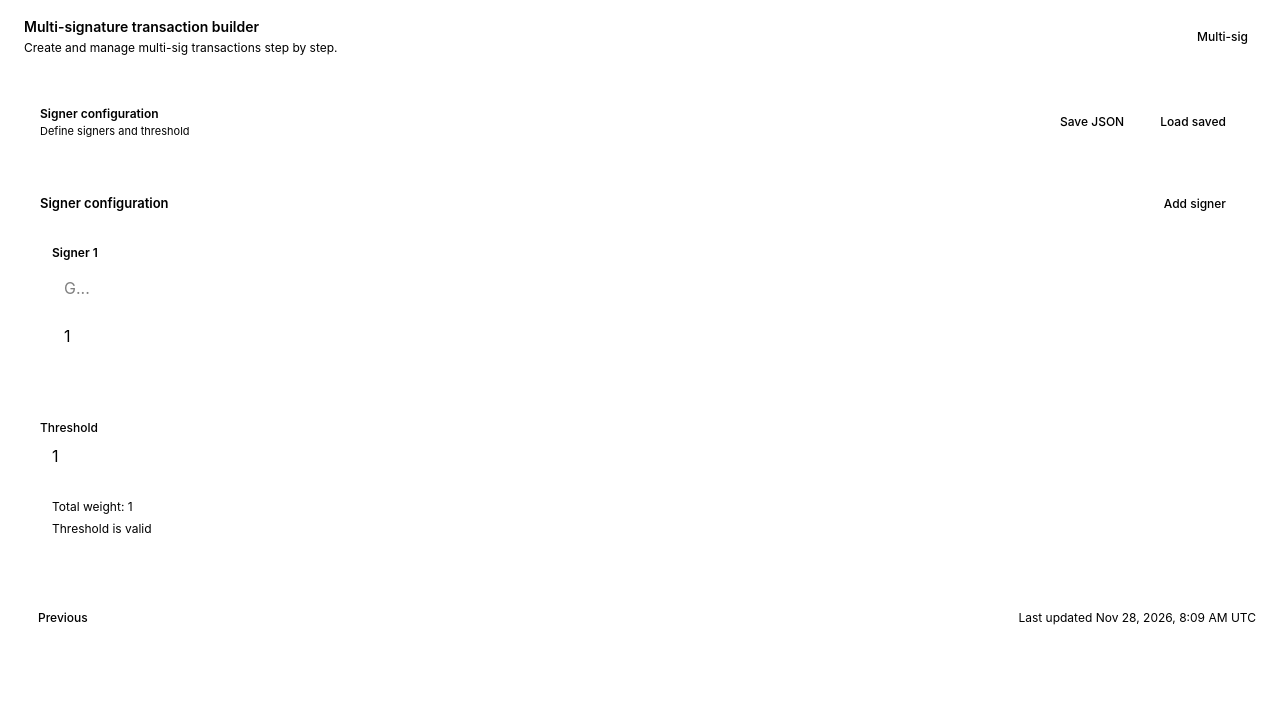
Test: MultiSigTransactionBuilder › schema versioning and migration (#900) › loads state already stamped with the current schemaVersion
The width and height of the screenshot is (1280, 720).
Step 1. Click the button "Load saved" → (1193, 122), box [1146,106,1240,138]
(page scrolled)
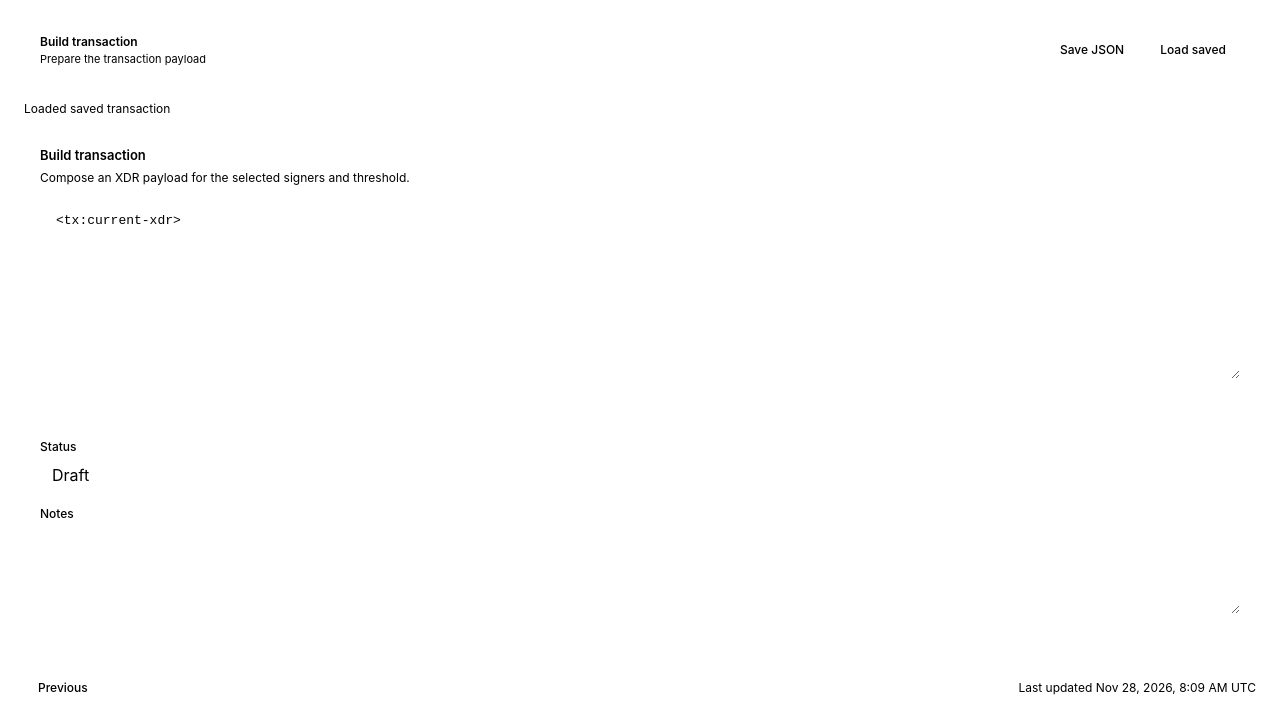
expect the text "Loaded saved transaction" is shown: met, box [24,100,170,116]
expect the text box showing "<tx:current-xdr>" is shown: met, box [40,199,1240,379]
Step 2. Click the button "Previous" → (63, 688), box [24,672,102,704]
(page scrolled)
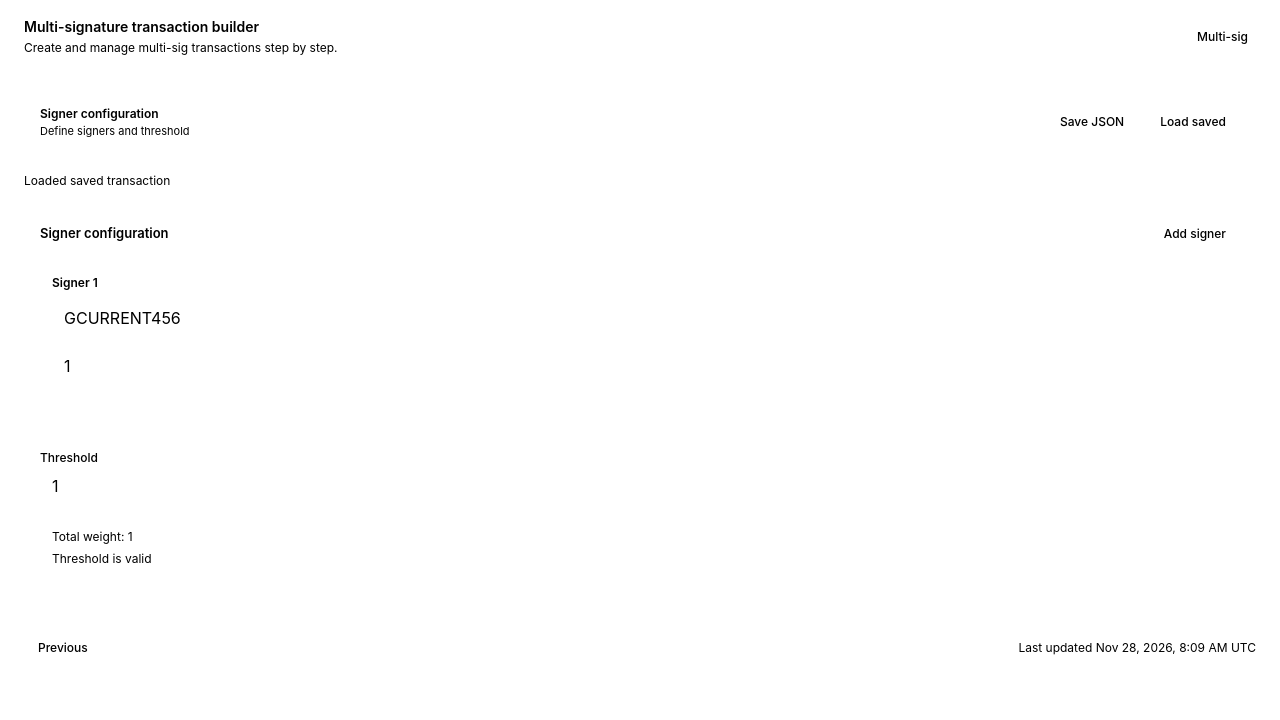
expect the field showing "GCURRENT456" is shown: met, box [52,300,1228,336]
